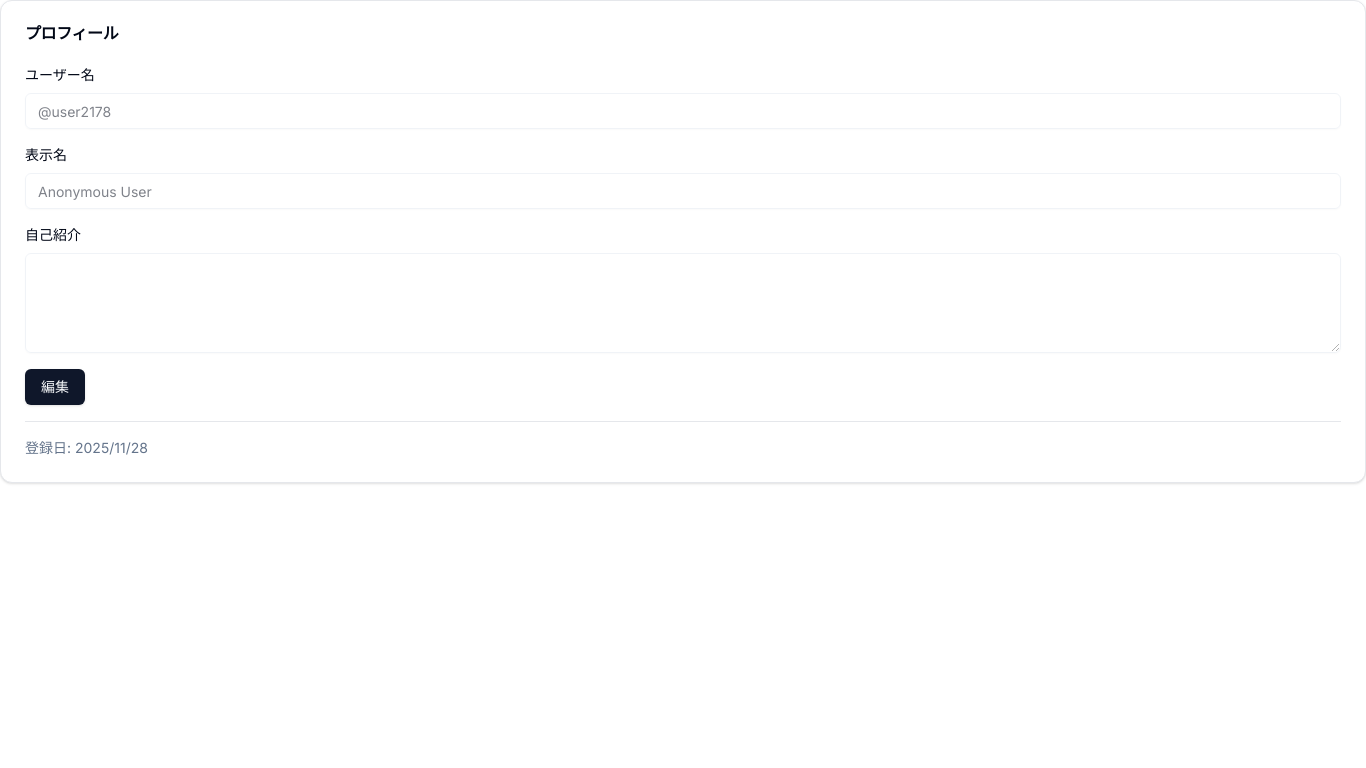
Test case: Profile Flow Integration › should show character counters in edit mode
The width and height of the screenshot is (1366, 768).
Click the button "編集".
click(55, 387)  # box [25,369,85,405]
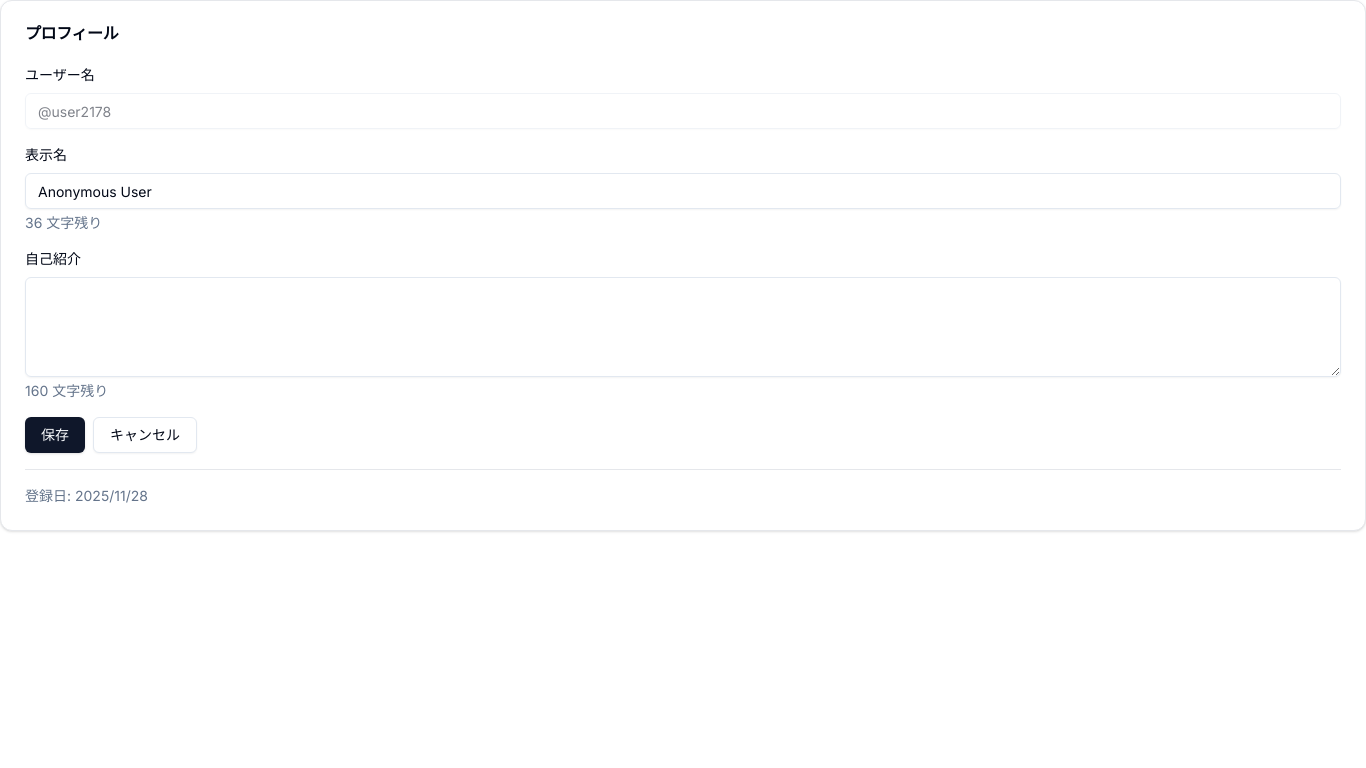
Result: the text "36 文字残り" is shown at [25,214,102,231]
